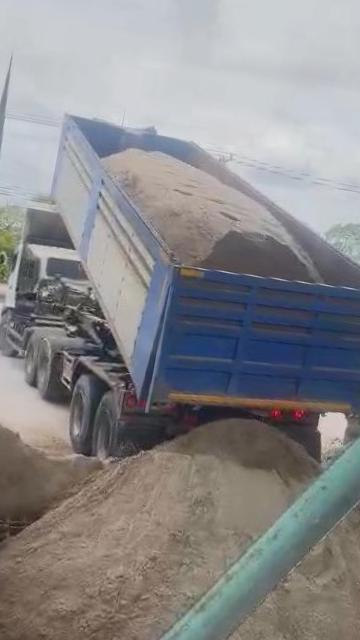sand: (0, 420, 317, 640), (103, 149, 323, 282), (188, 510, 360, 640), (0, 399, 101, 521)
